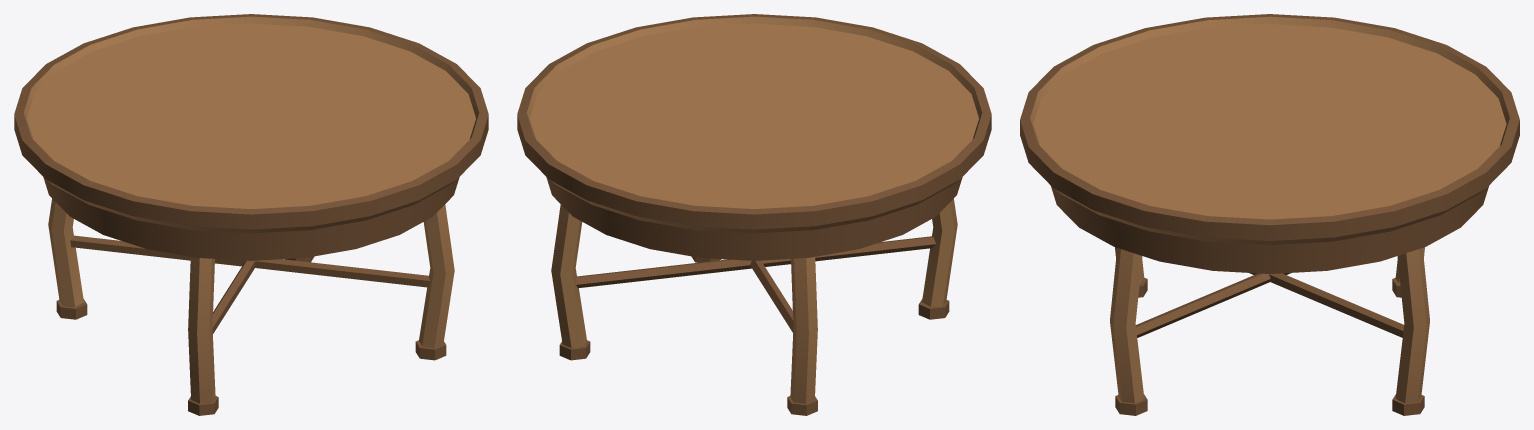
The model's file is SC_Home_Low_Table_Round.gltf.
3 renders of one model, left to right at view 1: azimuth 30°, elevation 25°; view 2: azimuth 150°, elevation 25°; view 3: azimuth 270°, elevation 25°, orthographic. The views are drawn at different scales.
Visible parts, largest first — view 1: SC_Home_Low_Table_Round; view 2: SC_Home_Low_Table_Round; view 3: SC_Home_Low_Table_Round.
Boxes of the visible parts, bbox=[...] form: SC_Home_Low_Table_Round: bbox=[14, 14, 488, 415]; SC_Home_Low_Table_Round: bbox=[517, 14, 991, 415]; SC_Home_Low_Table_Round: bbox=[1020, 14, 1519, 415].
Bounding box in the file's own units: 0.6 × 0.308 × 0.6.
1 material, 1 textured.
